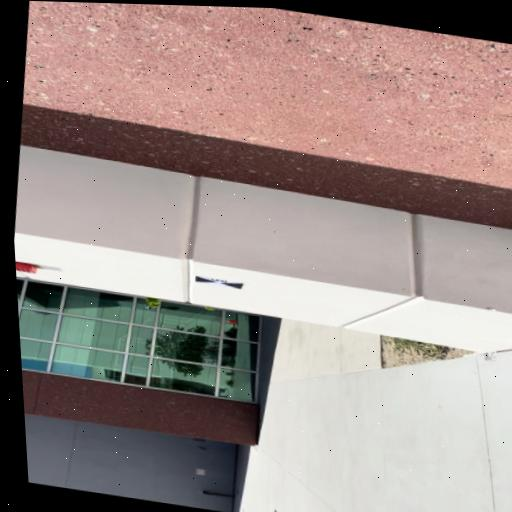target6: (195, 275, 245, 291)
